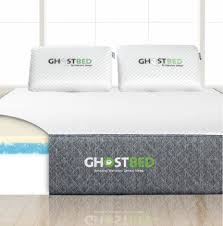bed-matress: (1, 85, 223, 198)
